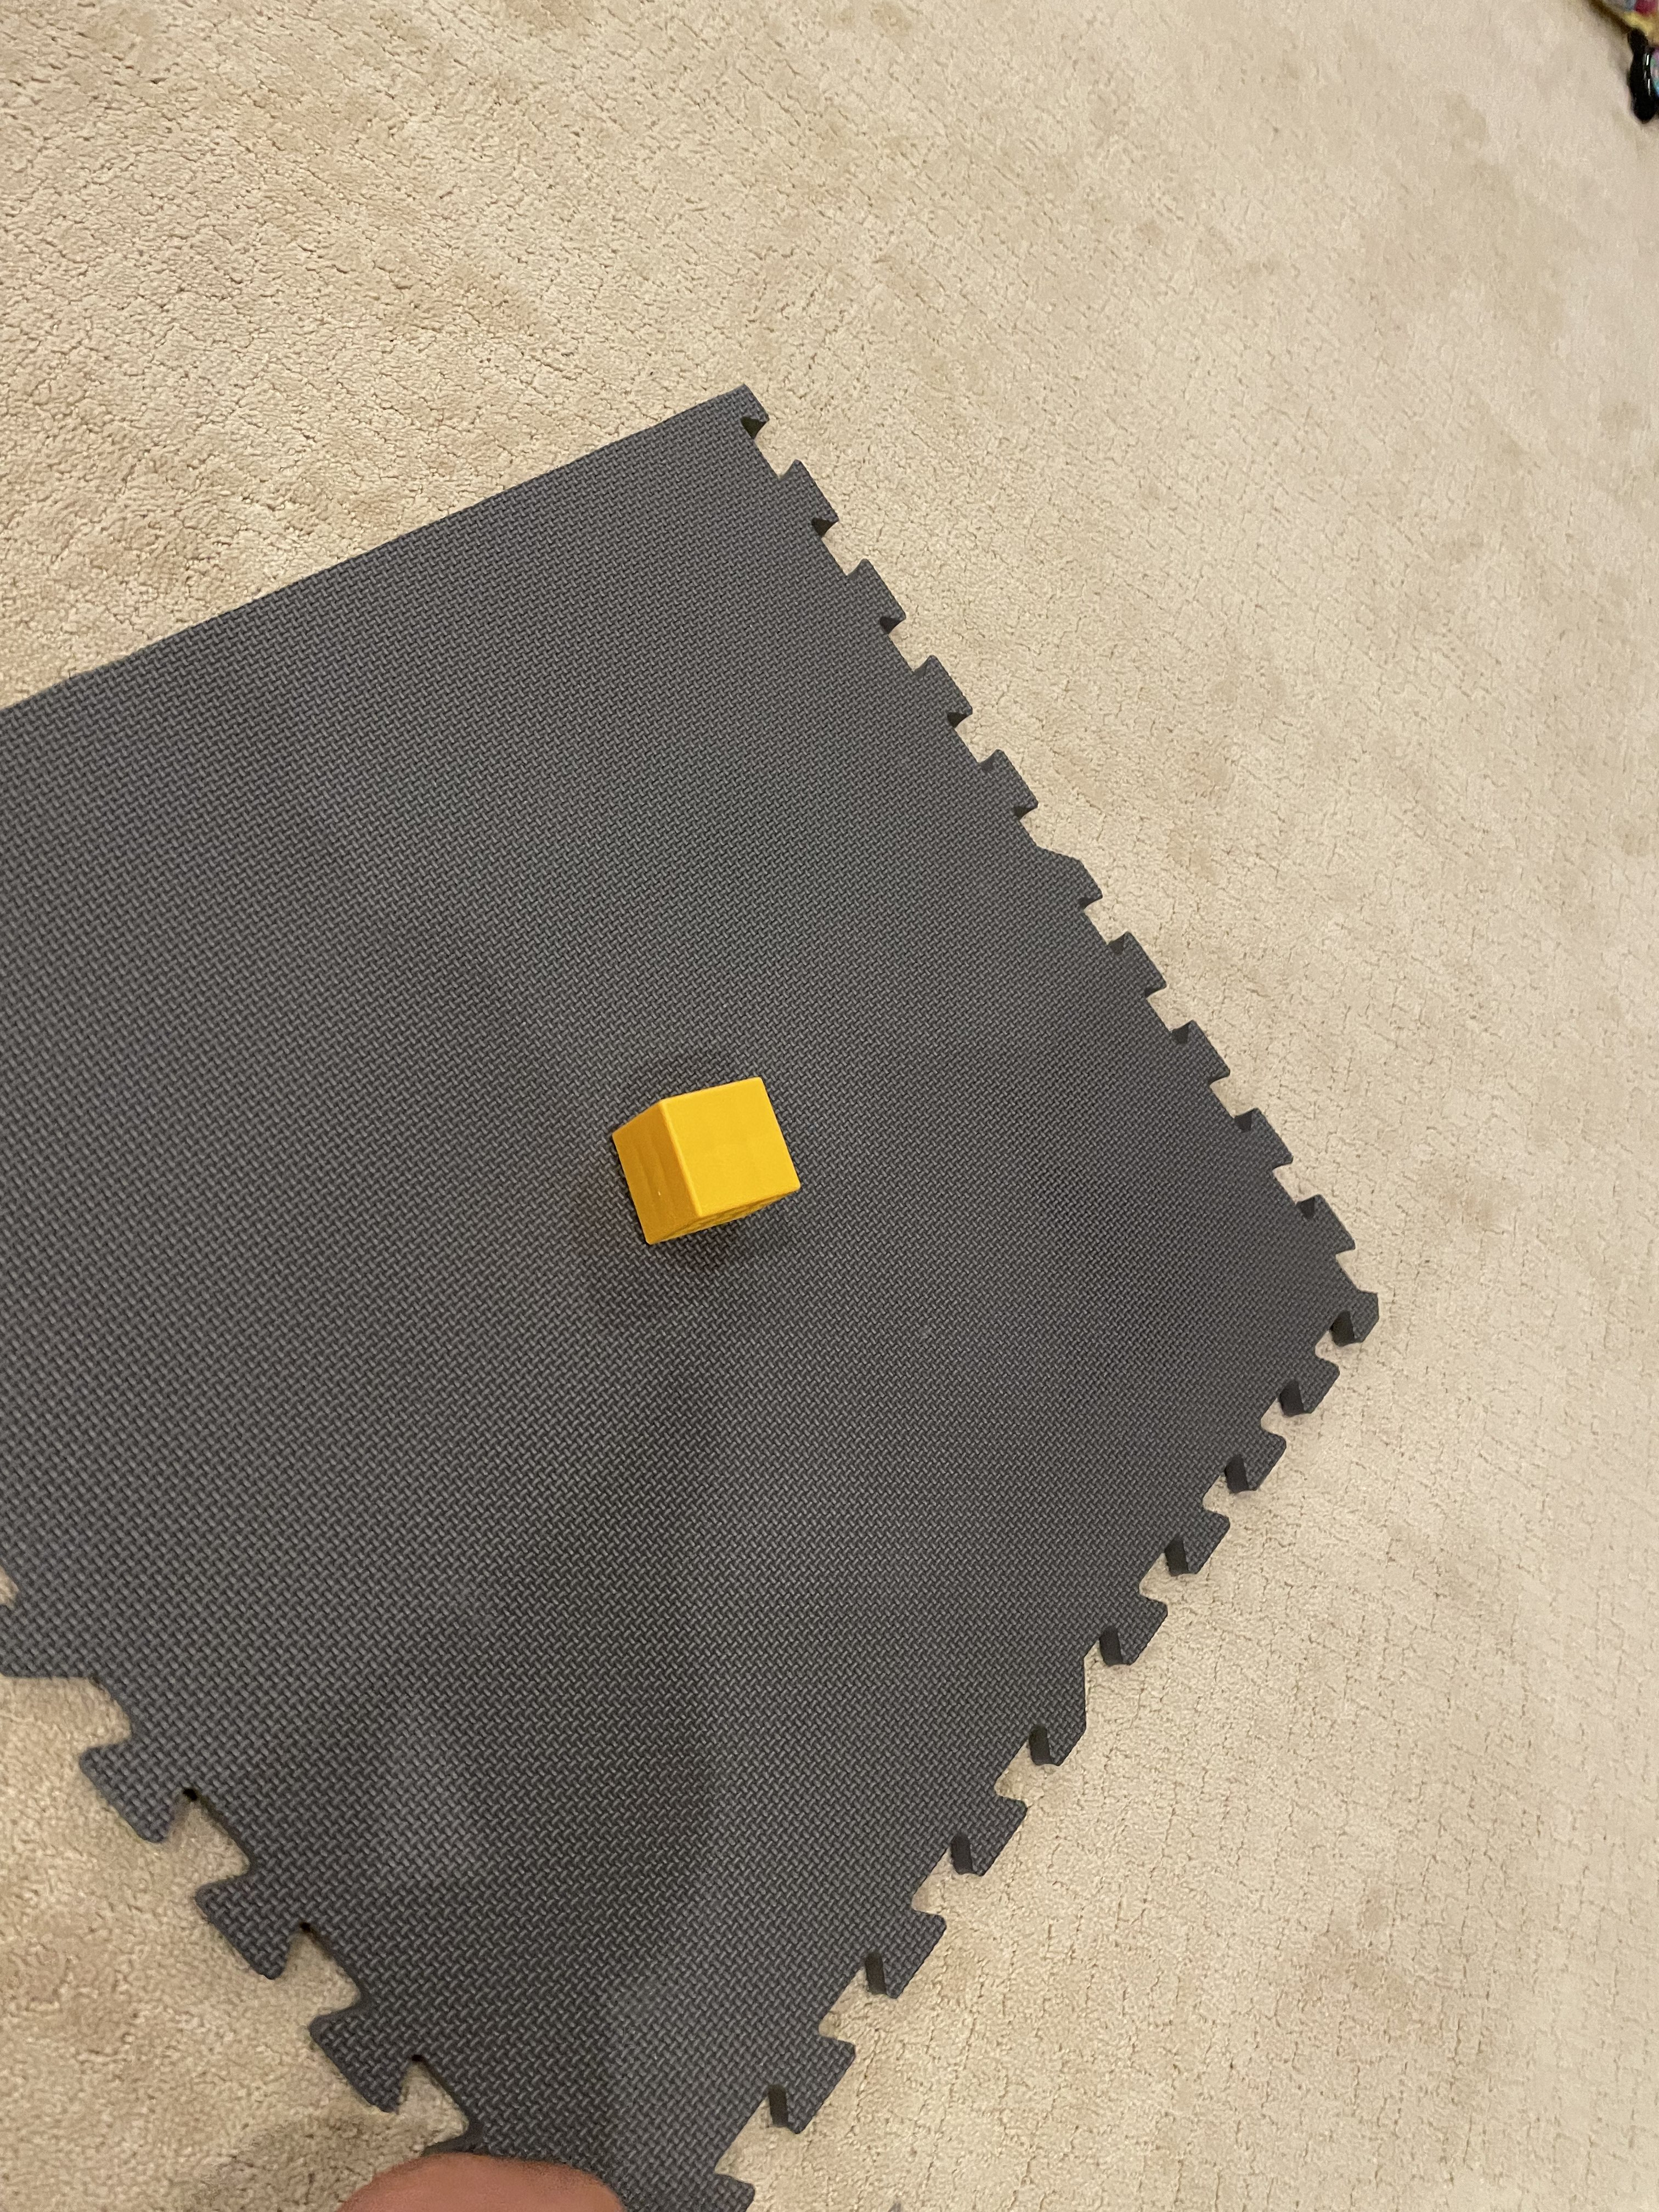cube: (586, 1055, 831, 1273)
